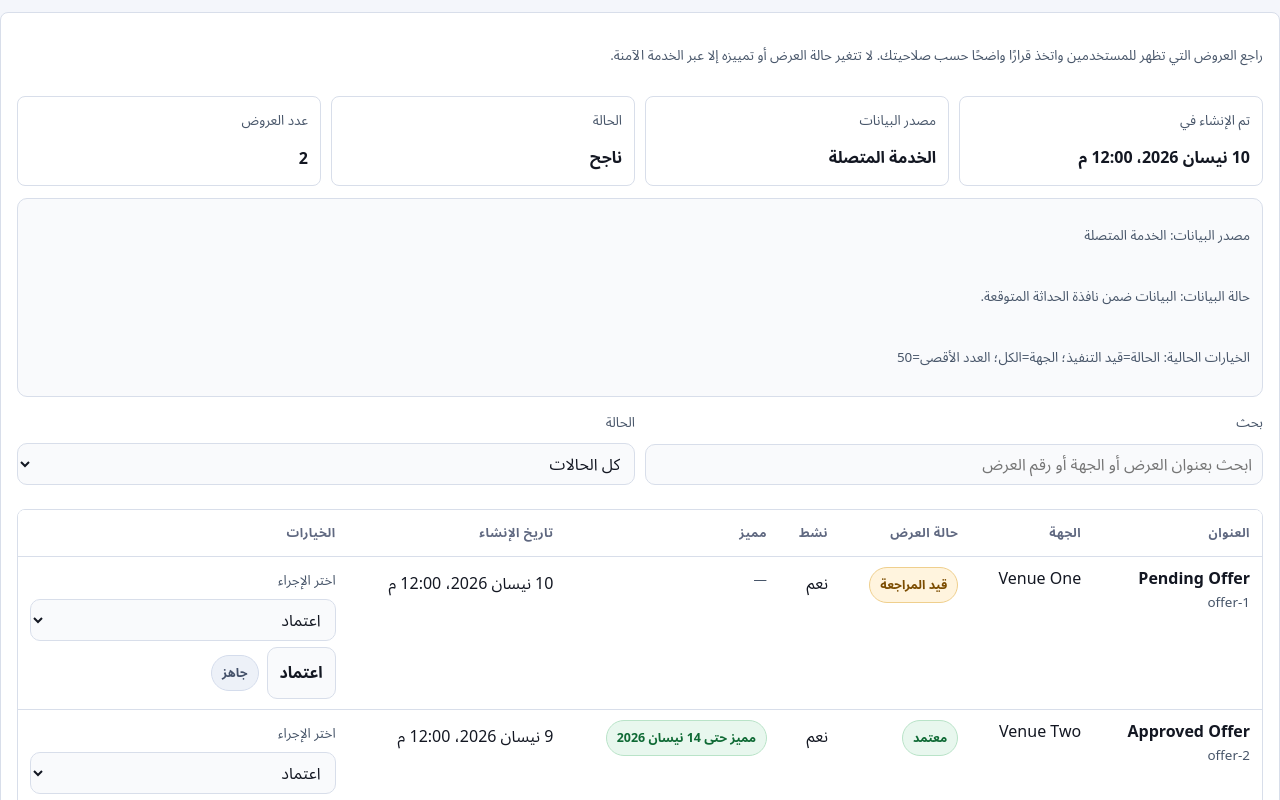
Test case: content management shells › shows unavailable offer moderation transport explicitly
This screenshot has width=1280, height=800.
Select "اعتماد" in the dropdown with test id "content-action-select-offer-offer-1": (183, 620) [30,598,336,640]
Click the button with test id "content-action-run-offer-offer-1": (301, 672) [266,646,336,698]
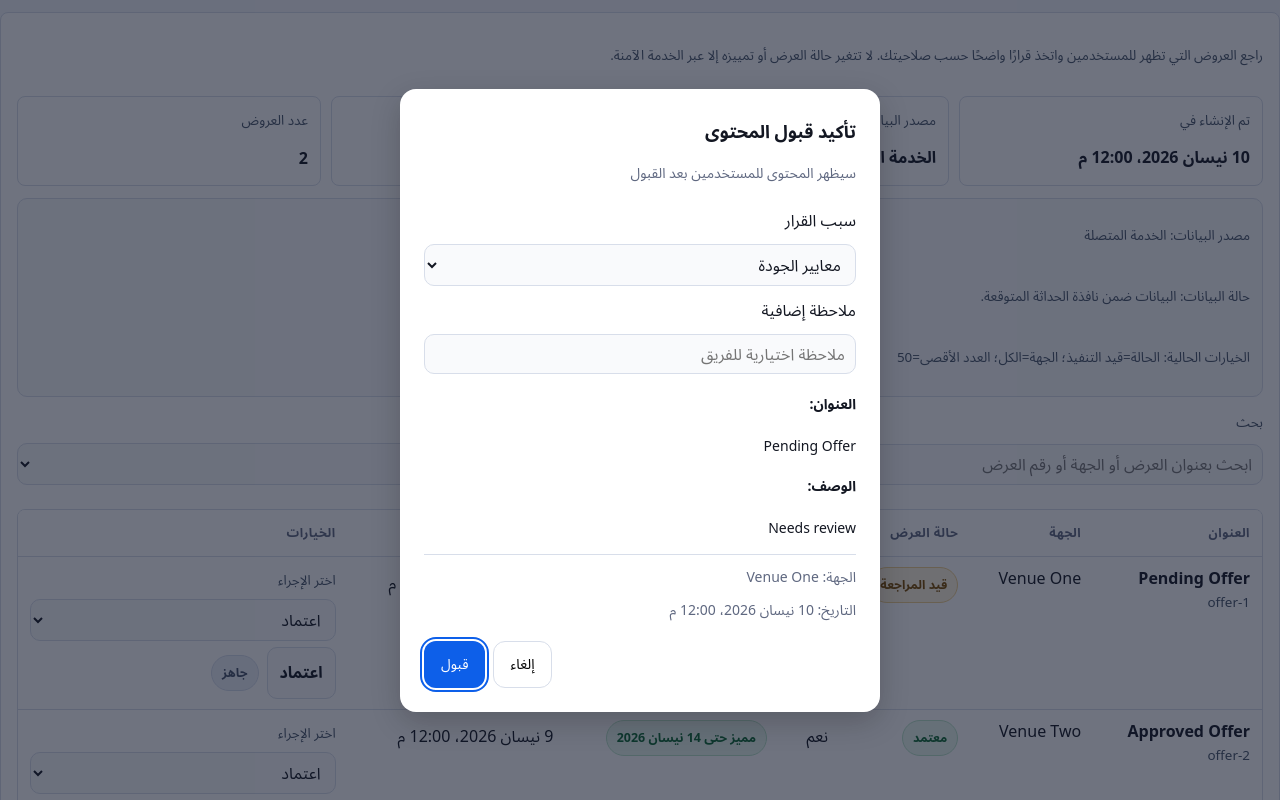
Expected: the dialog is shown, [400,88,880,712]
# Click confirm button in dialog (قبول for approve action) - last button is the confirm button
Click the button "قبول": (455, 664) [424,640,485,688]
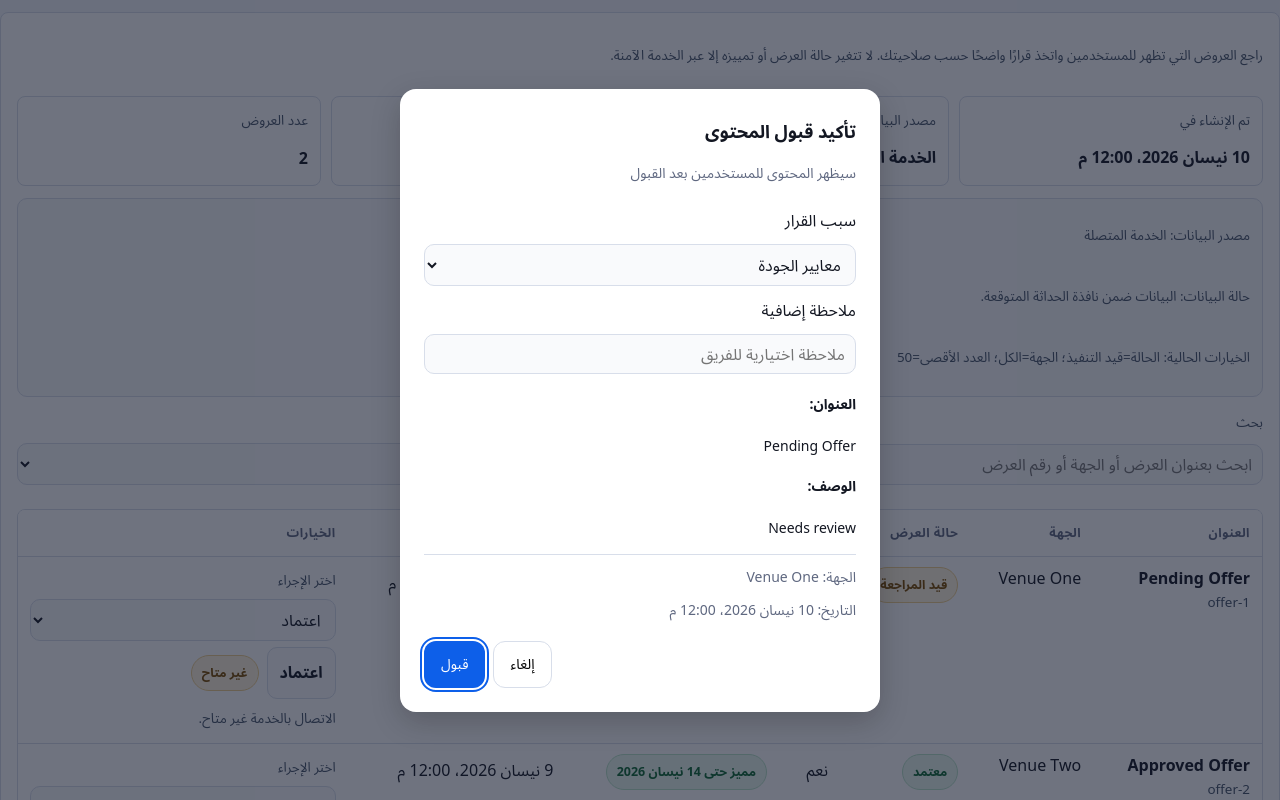
Expected: the text "الاتصال بالخدمة غير متاح." is shown, [199,708,336,726]
